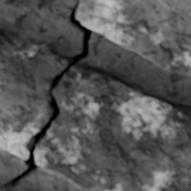brick: (77, 0, 190, 74), (2, 0, 42, 8)
broken_brick: (36, 62, 190, 190), (0, 28, 71, 160)
crack: (0, 2, 91, 188)
